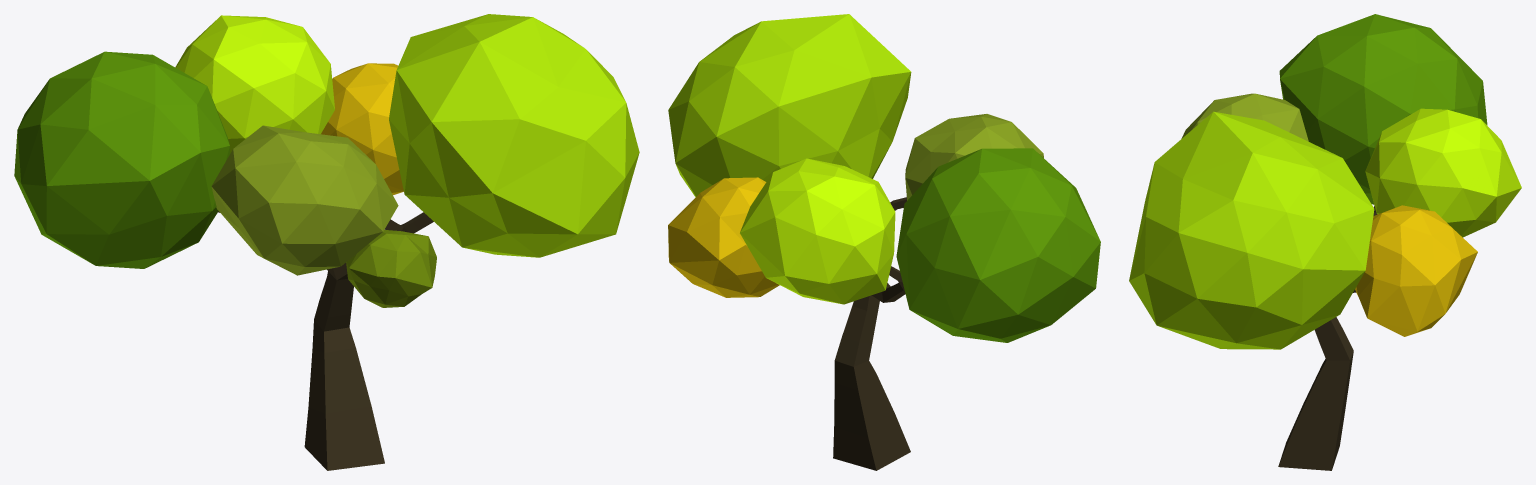
The model's file is tree01.glb.
3 views of the same model, side by side, from view 1: azimuth 30°, elevation 25°; view 2: azimuth 150°, elevation 25°; view 3: azimuth 270°, elevation 25° (orthographic). The views are drawn at different scales.
Parts seen in each view (by area): view 1: Icosphere.002, Icosphere.005, Icosphere.001, Icosphere.003, Cube, Icosphere.004, Icosphere; view 2: Icosphere.002, Icosphere.005, Icosphere.003, Cube, Icosphere.004, Icosphere.001; view 3: Icosphere.002, Icosphere.005, Icosphere.003, Icosphere.004, Cube, Icosphere.001.
Boxes of the visible parts, box(x1,y1,x2,y2) form: Icosphere.002: box(389, 14, 639, 257); Icosphere.005: box(14, 51, 230, 268); Icosphere.001: box(211, 125, 398, 275); Icosphere.003: box(175, 15, 334, 153); Cube: box(218, 211, 433, 470); Icosphere.004: box(321, 63, 403, 194); Icosphere: box(346, 230, 436, 307); Icosphere.002: box(668, 14, 911, 197); Icosphere.005: box(896, 148, 1100, 342); Icosphere.003: box(740, 158, 895, 304); Cube: box(833, 197, 910, 470); Icosphere.004: box(668, 177, 779, 297); Icosphere.001: box(905, 114, 1043, 200); Icosphere.002: box(1129, 111, 1374, 349); Icosphere.005: box(1279, 14, 1487, 204); Icosphere.003: box(1365, 108, 1521, 237); Icosphere.004: box(1355, 205, 1477, 336); Cube: box(1278, 206, 1377, 470); Icosphere.001: box(1181, 93, 1308, 141).
Bounding box in the file's own units: 14.65 × 11.7 × 10.95.
